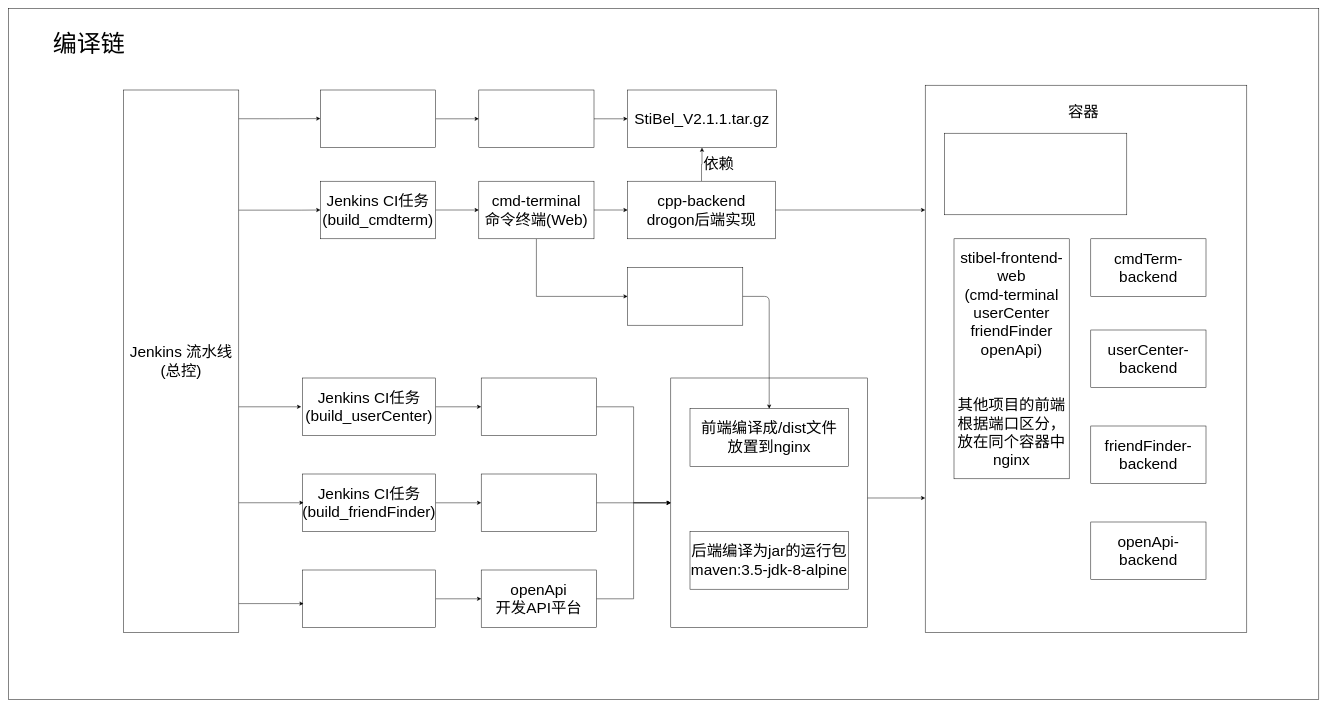
Image size: 1327x708. Some labels were removed from this diagram. The shapes that lost their labels are listed below. From the top down, each one's centre as x and y in pixels, then its label:
[378,119]: Jenkins CI任务 (build_lib)
[536,119]: build_lib C++项目公共库依赖
[1035,174]: cpp-notes的nginx容器
[685,296]: frontend Vue前端
[538,407]: userCenter 用户管理系统
[538,503]: friendFinder 伙伴匹配系统(APP)
[369,599]: Jenkins CI任务 (build_openApi)
